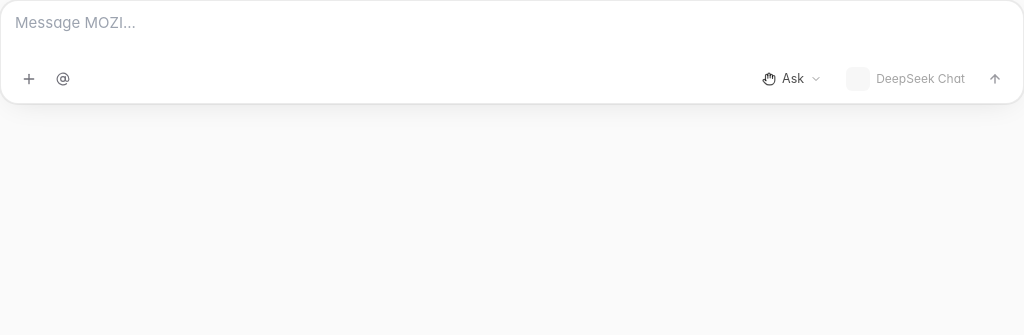
Test: InputBar › renders the current permission level and patches only when a level is selected
Check: the text "Ask" is shown, box [782,69,804,89]
Step 1. Press Enter in the button with test id "permission-chip", box [752,63,832,95]
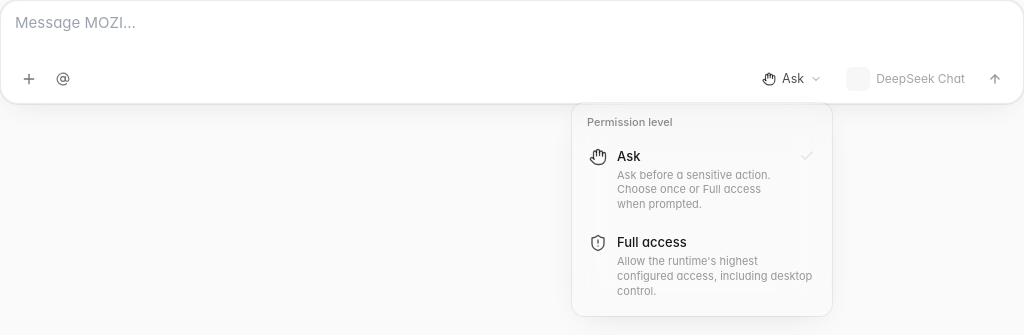
Step 2. Click the text "Full access" → (652, 242), box [617,234,687,250]
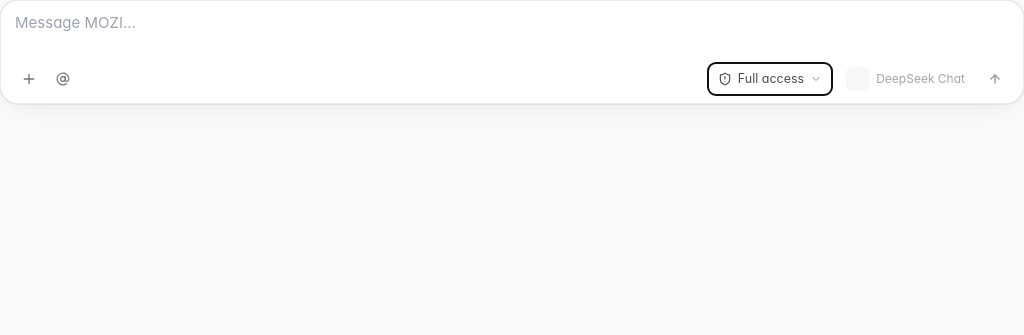
Check: the text "Full access" is shown, box [738,69,804,89]
